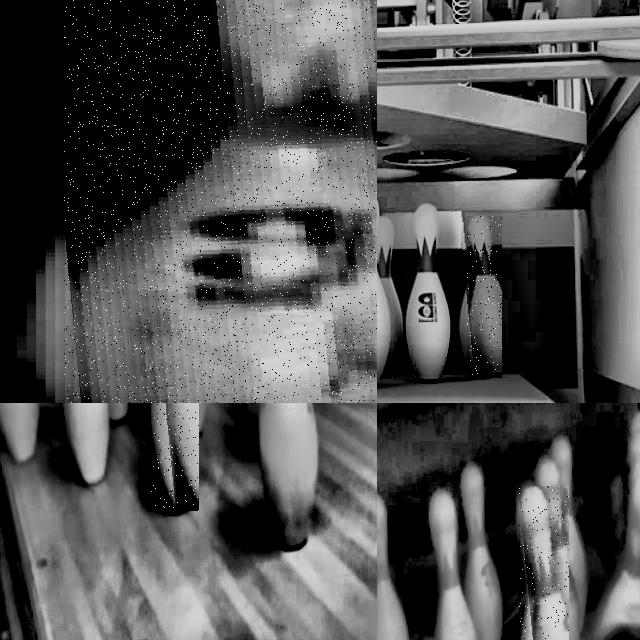bowling-pins: (259, 403, 318, 548), (404, 204, 451, 384), (537, 457, 579, 640), (519, 487, 569, 640), (462, 465, 502, 640), (430, 492, 476, 640), (552, 438, 587, 630), (467, 217, 502, 376), (377, 497, 408, 640), (377, 216, 403, 377), (161, 403, 198, 508), (63, 403, 108, 483)
